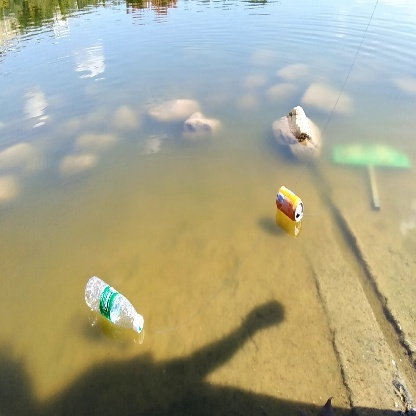bottle: (82, 275, 146, 336), (274, 182, 308, 226)
